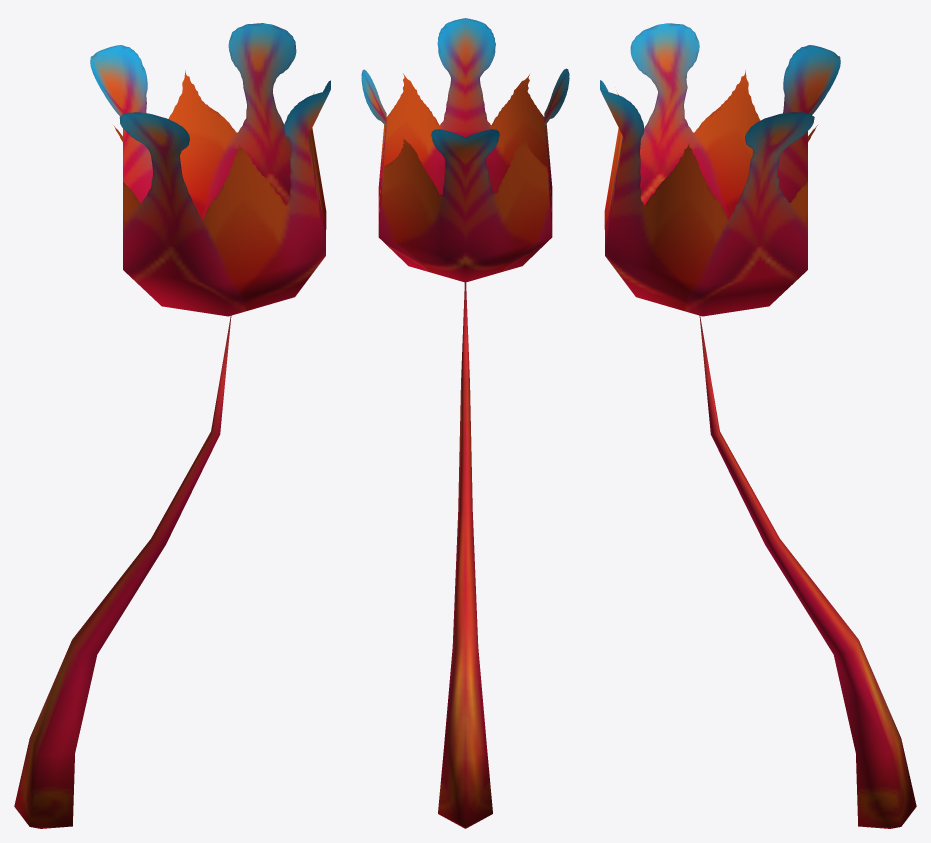
The model's file is Red_Flower_03e.FBX.
3 views of the same model, side by side, from view 1: azimuth 30°, elevation 25°; view 2: azimuth 150°, elevation 25°; view 3: azimuth 270°, elevation 25° (orthographic). The views are drawn at different scales.
Parts seen in each view (by area): view 1: Red_Flower_03e; view 2: Red_Flower_03e; view 3: Red_Flower_03e.
Boxes of the visible parts, x1,y1,x2,y2 form: Red_Flower_03e: [14, 23, 330, 828]; Red_Flower_03e: [361, 18, 569, 828]; Red_Flower_03e: [600, 23, 916, 828].
Bounding box in the file's own units: 21.76 × 69.12 × 24.53.
